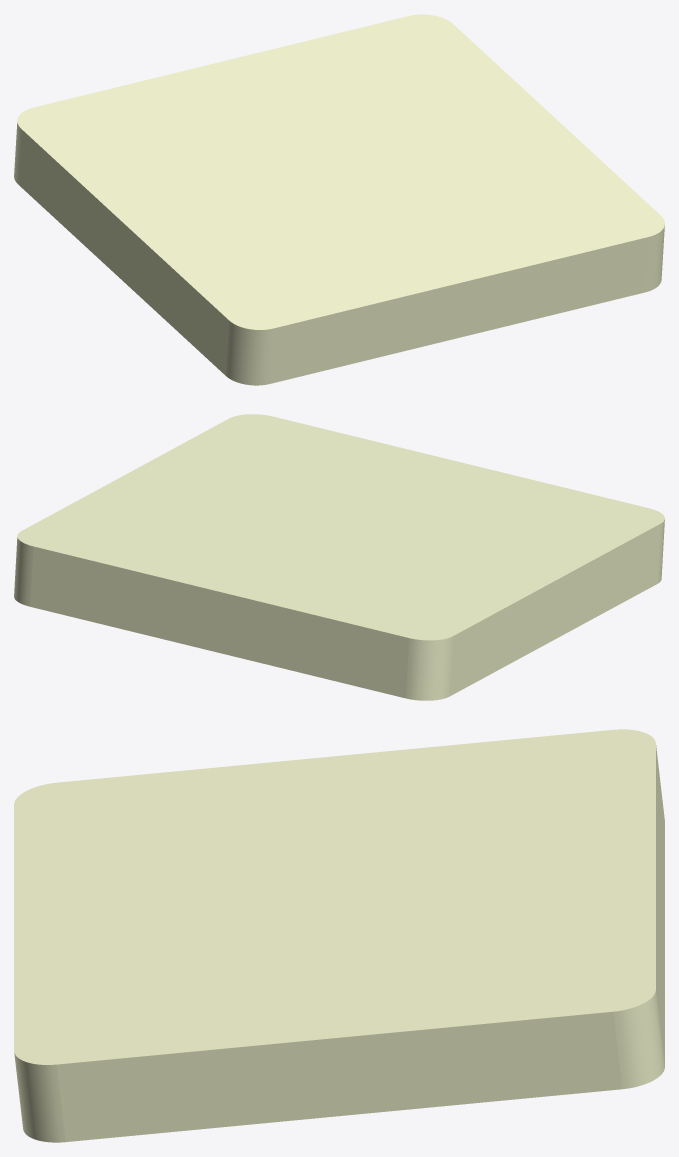
File: original-81.obj
3 views of the same model, one above another, from view 1: azimuth 30°, elevation 25°; view 2: azimuth 150°, elevation 25°; view 3: azimuth 270°, elevation 25° (orthographic). The views are drawn at different scales.
Visible parts, largest first — view 1: Group82/mesh238/mesh238-geometry#mesh238-geometry; view 2: Group82/mesh238/mesh238-geometry#mesh238-geometry; view 3: Group82/mesh238/mesh238-geometry#mesh238-geometry.
Part boxes in pixels (left/top/right/bottom): Group82/mesh238/mesh238-geometry#mesh238-geometry: left=14, top=14, right=664, bottom=385; Group82/mesh238/mesh238-geometry#mesh238-geometry: left=14, top=414, right=664, bottom=700; Group82/mesh238/mesh238-geometry#mesh238-geometry: left=14, top=729, right=664, bottom=1142.
Bounding box in the file's own units: 0.0689 × 0.0158 × 0.0673.
